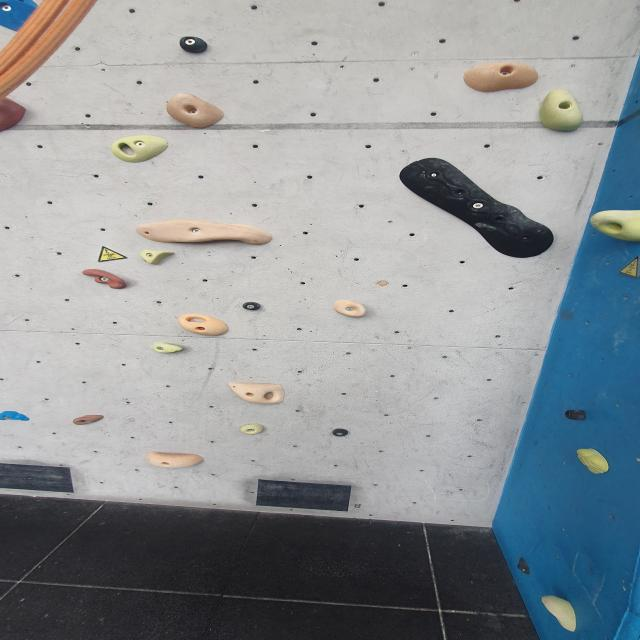Crimp: (461, 63, 541, 95), (570, 444, 614, 477), (146, 452, 207, 469), (138, 249, 180, 265), (150, 343, 186, 355), (72, 414, 108, 426), (0, 412, 30, 421)
Jug: (134, 218, 275, 246), (162, 90, 226, 131), (588, 209, 640, 243), (538, 593, 581, 632), (78, 267, 134, 292), (329, 298, 370, 320)
Pinch: (536, 87, 586, 133), (174, 35, 215, 55), (559, 407, 593, 422), (237, 422, 270, 435), (238, 300, 266, 312), (329, 428, 354, 438)
Pocket: (223, 380, 293, 407), (109, 136, 171, 164), (177, 315, 231, 336)
Sloper: (397, 156, 559, 260), (0, 95, 29, 135)
